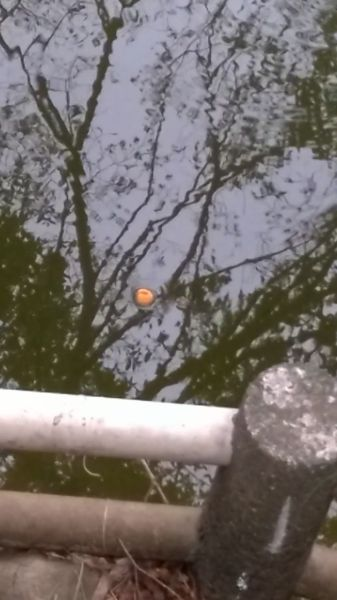eggs: (130, 283, 159, 311)
